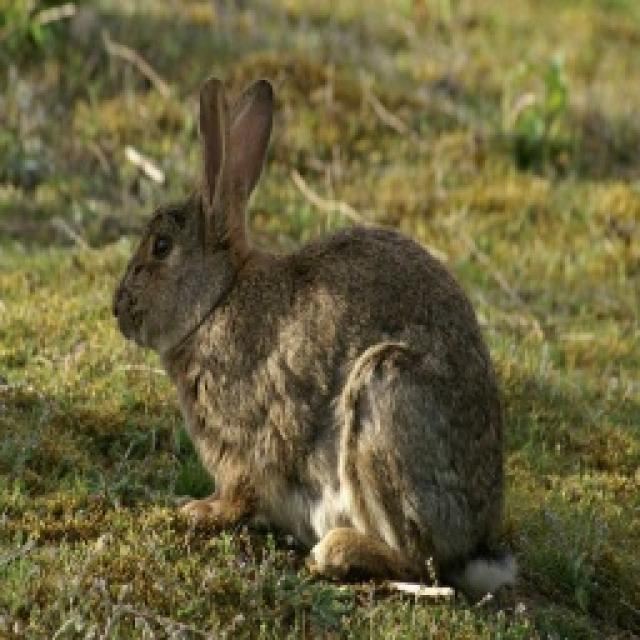not_pig: (110, 75, 518, 600)
